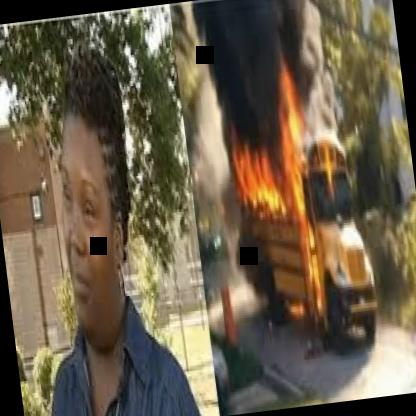fire: (181, 0, 399, 378)
